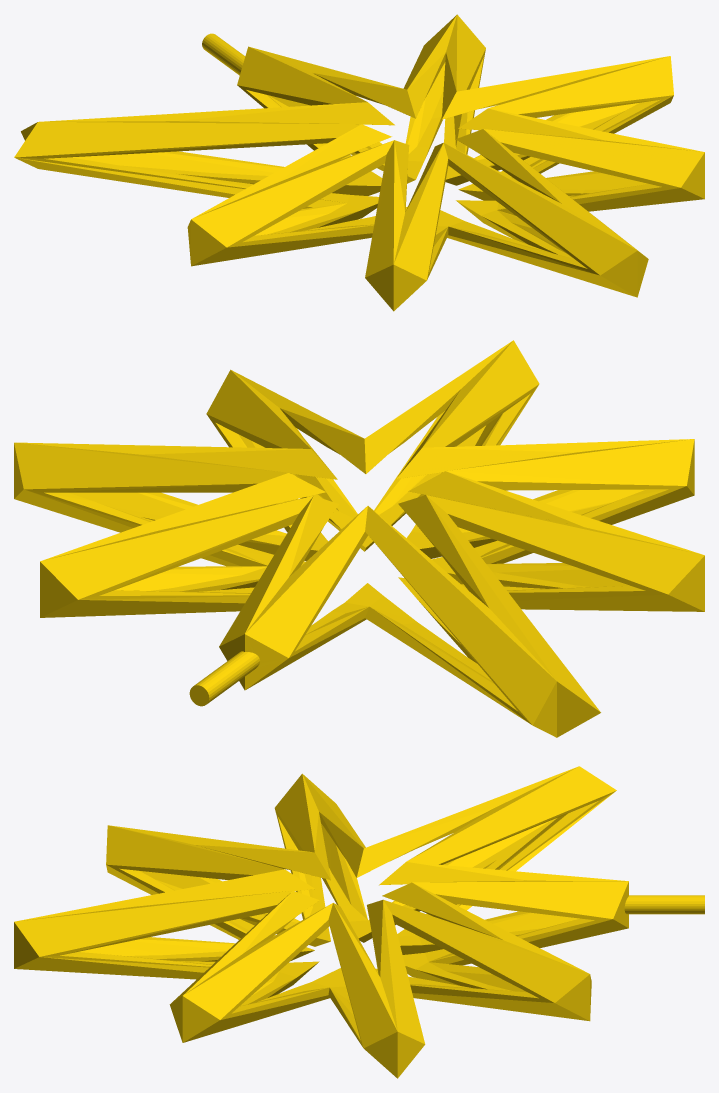
File: GoldStar.obj
3 views of the same model, one above another, from view 1: azimuth 30°, elevation 25°; view 2: azimuth 150°, elevation 25°; view 3: azimuth 270°, elevation 25° (orthographic). The views are drawn at different scales.
Parts seen in each view (by area): view 1: polySurface1 star_1_03_1Pin__1_; view 2: polySurface1 star_1_03_1Pin__1_; view 3: polySurface1 star_1_03_1Pin__1_.
Part boxes in pixels (x1,y1,x2,y2): polySurface1 star_1_03_1Pin__1_: (14, 14, 704, 311); polySurface1 star_1_03_1Pin__1_: (14, 340, 704, 737); polySurface1 star_1_03_1Pin__1_: (14, 766, 704, 1078).
Bounding box in the file's own units: 4.05 × 0.6367 × 4.22.
